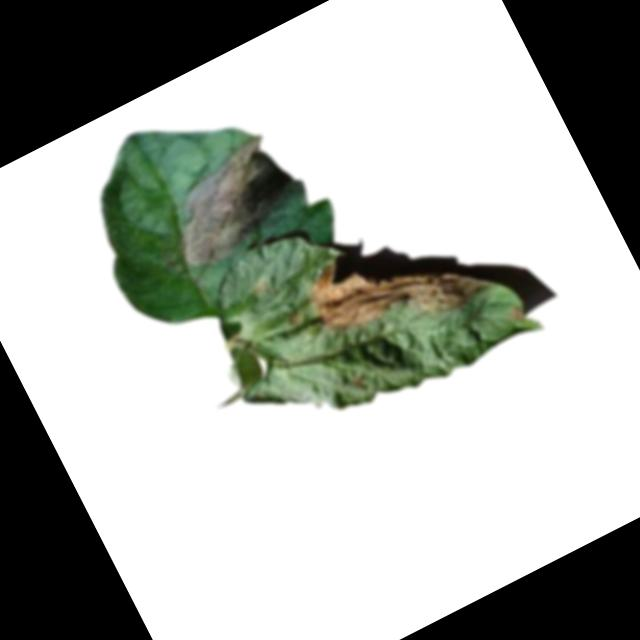Late_blight: (295, 202, 493, 370), (146, 124, 318, 278), (503, 300, 529, 327)
